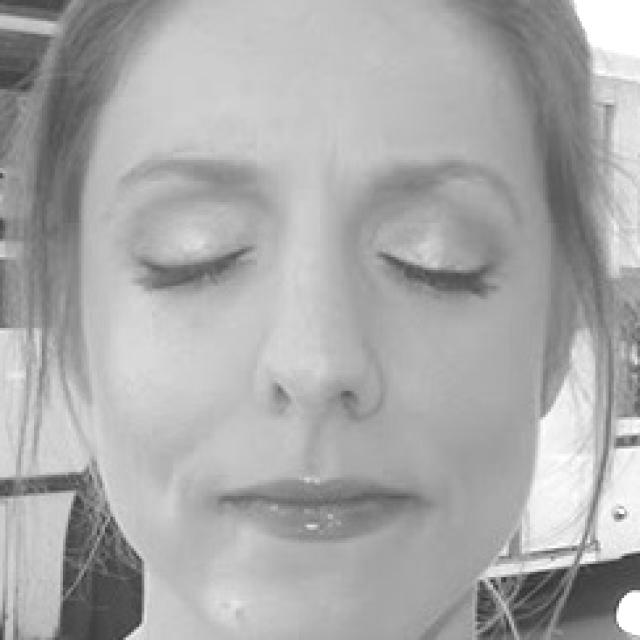real: (56, 15, 534, 622), (106, 204, 530, 304)
